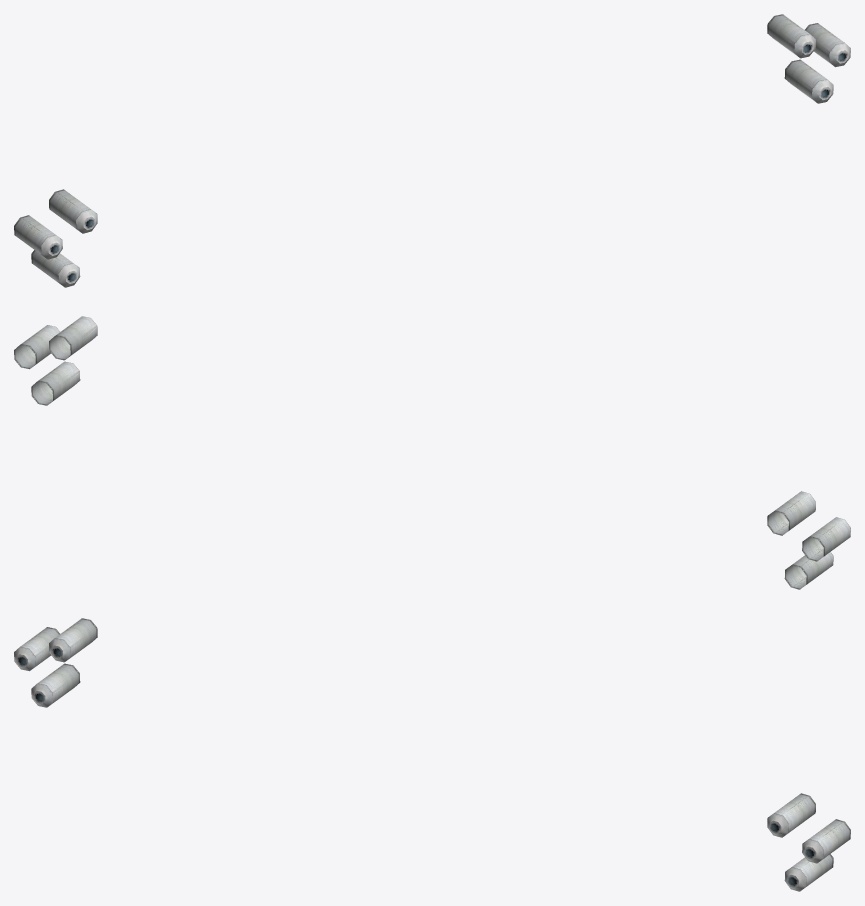
Rendered from hutt_fighter_medium_weapon2_s04_l0.fbx.
The picture shows the model from 3 angles, top to bottom: view 1: azimuth 30°, elevation 25°; view 2: azimuth 150°, elevation 25°; view 3: azimuth 330°, elevation 25°; orthographic projection.
Visible parts, largest first — view 1: mesh_node; view 2: mesh_node; view 3: mesh_node.
Boxes of the visible parts, x1,y1,x2,y2 form: mesh_node: (14, 14, 850, 287); mesh_node: (14, 316, 850, 589); mesh_node: (14, 618, 850, 891).
Size of the model in its own units: 3.21 by 0.2746 by 0.2046.
